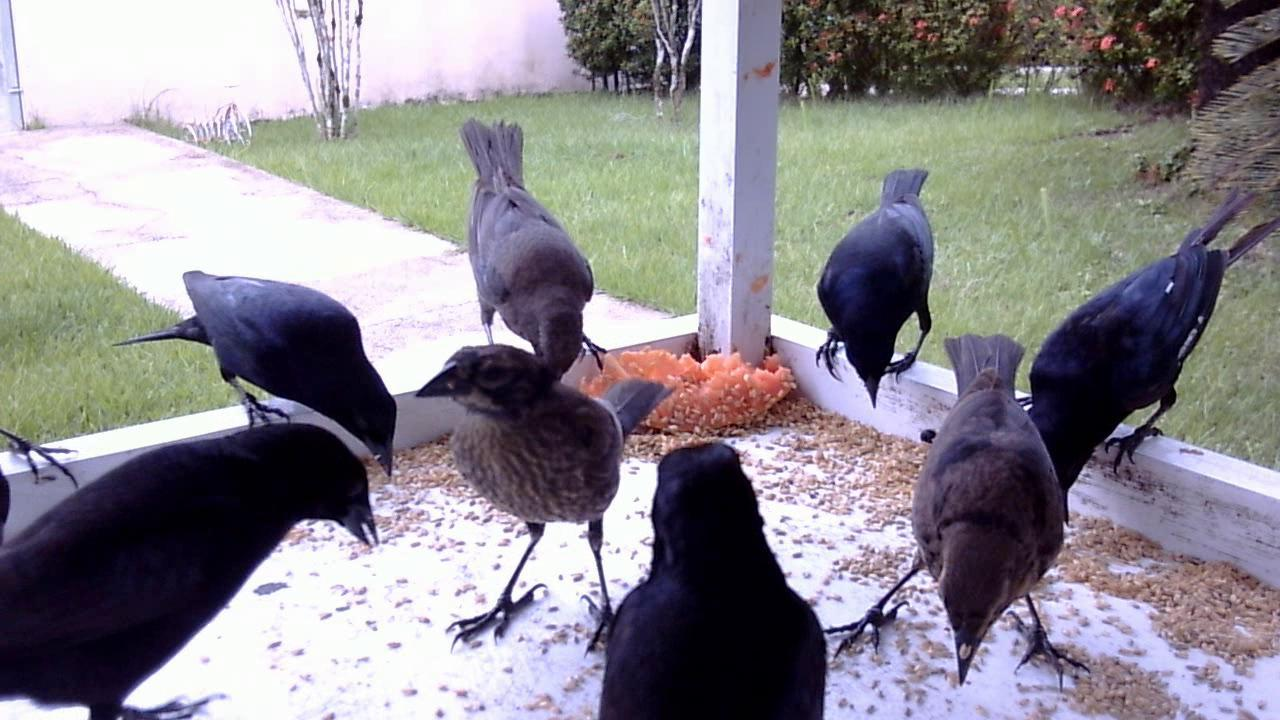chupim: (1, 397, 386, 720), (811, 322, 1108, 704), (397, 316, 671, 671), (1008, 182, 1275, 518), (584, 430, 846, 715), (97, 255, 417, 478), (455, 122, 608, 389), (805, 160, 947, 412)
